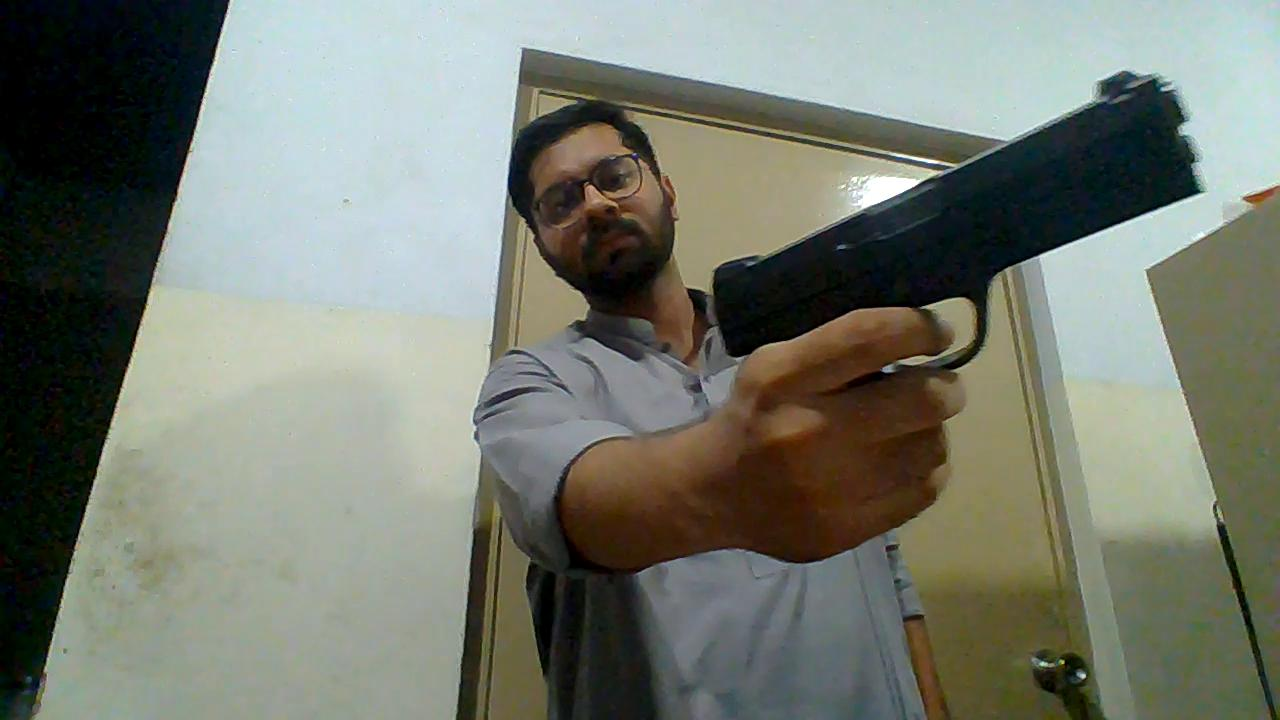criminal: (472, 66, 1206, 720)
weapon: (711, 69, 1206, 388)
